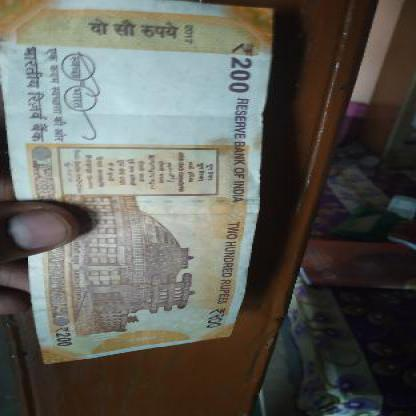New200Back: (1, 0, 255, 346)
